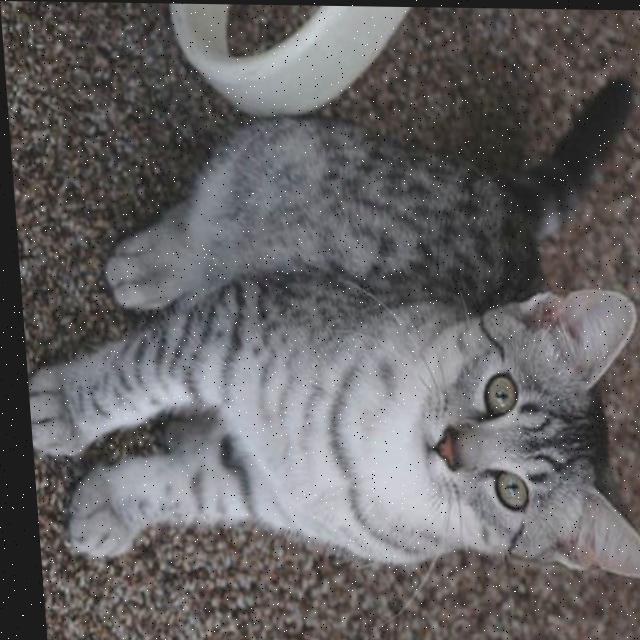Egyptian Mau: (3, 60, 640, 586)
